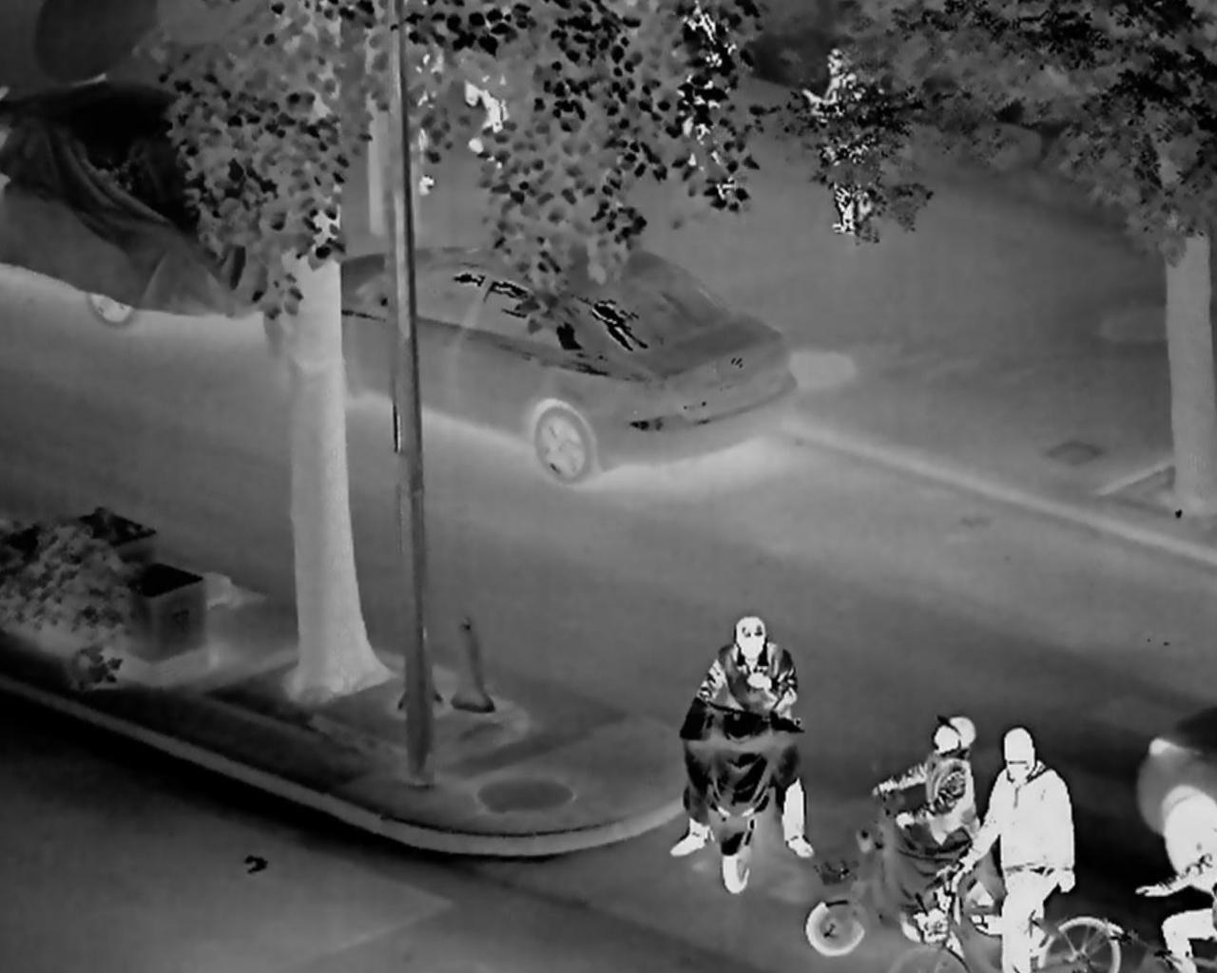person: (661, 595, 837, 863), (861, 710, 1006, 963), (964, 711, 1098, 973), (643, 3, 756, 213), (801, 40, 894, 269), (1129, 792, 1214, 973)
